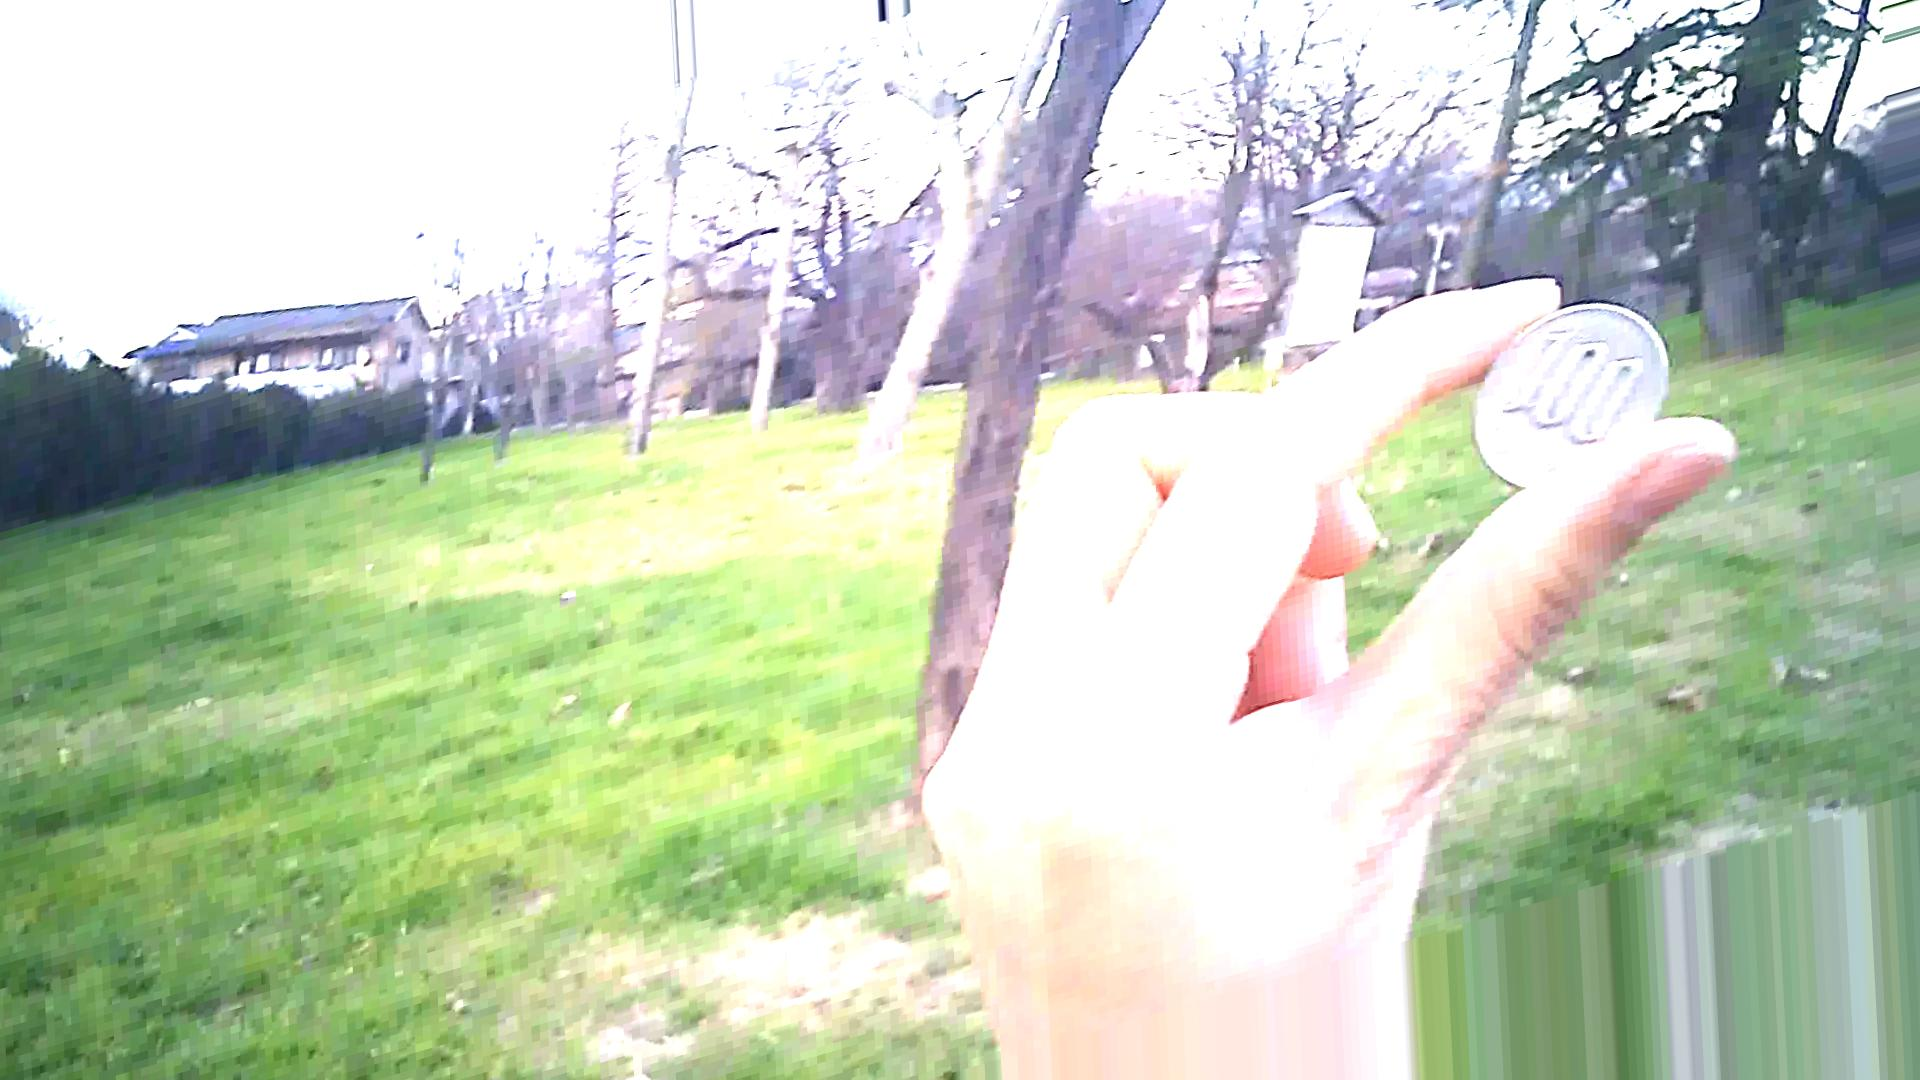100 Yen: (1478, 273, 1677, 501)
